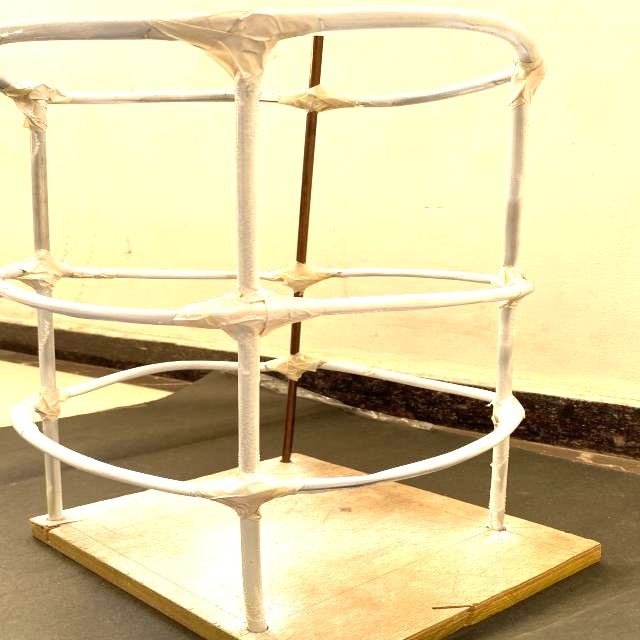silo: (0, 2, 597, 636)
